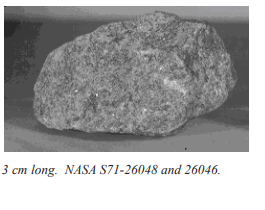Basalt: (26, 14, 242, 134)
